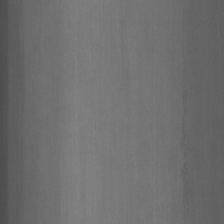silk_spot: (176, 61, 200, 206)
